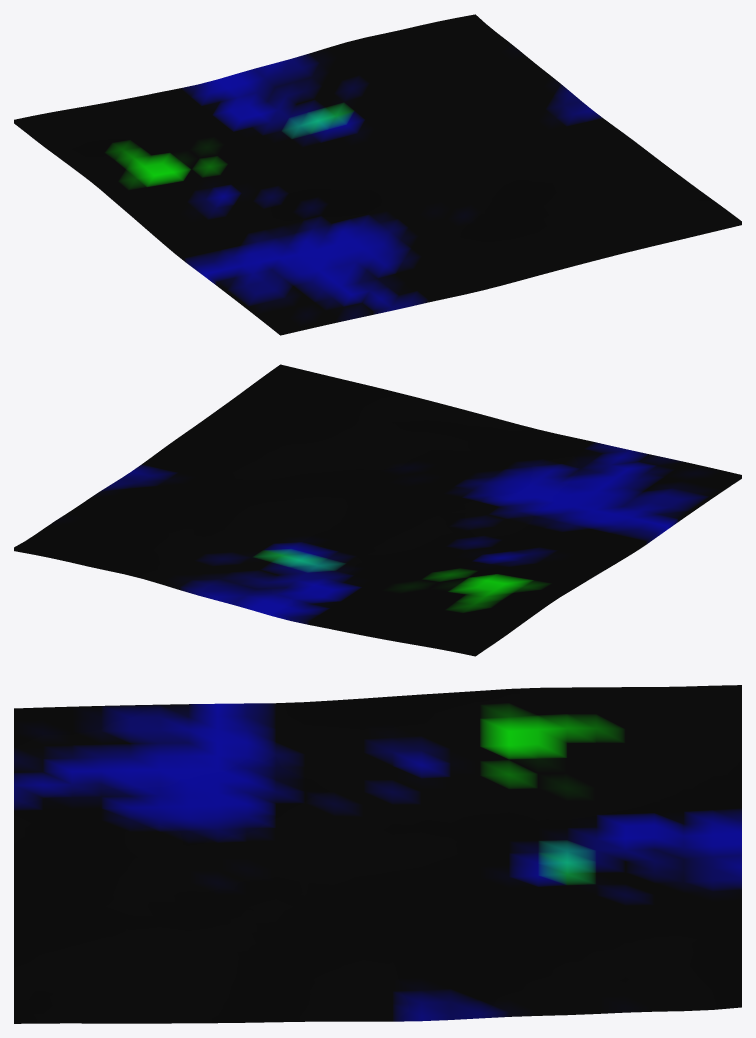
Rendered from coast_12_5.glb.
3 views of the same model, one above another, from view 1: azimuth 30°, elevation 25°; view 2: azimuth 150°, elevation 25°; view 3: azimuth 270°, elevation 25° (orthographic). The views are drawn at different scales.
Parts seen in each view (by area): view 1: terrain; view 2: terrain; view 3: terrain.
Part boxes in pixels (x1,y1,x2,y2): terrain: (14,14,741,335); terrain: (14,364,741,656); terrain: (14,685,741,1023).
Size of the model in its own units: 200 by 10.33 by 200.
